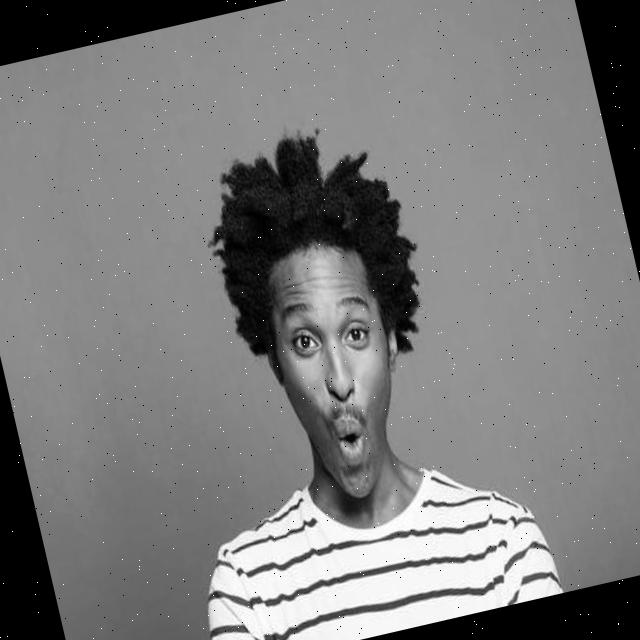Surprised: (254, 232, 421, 510)
